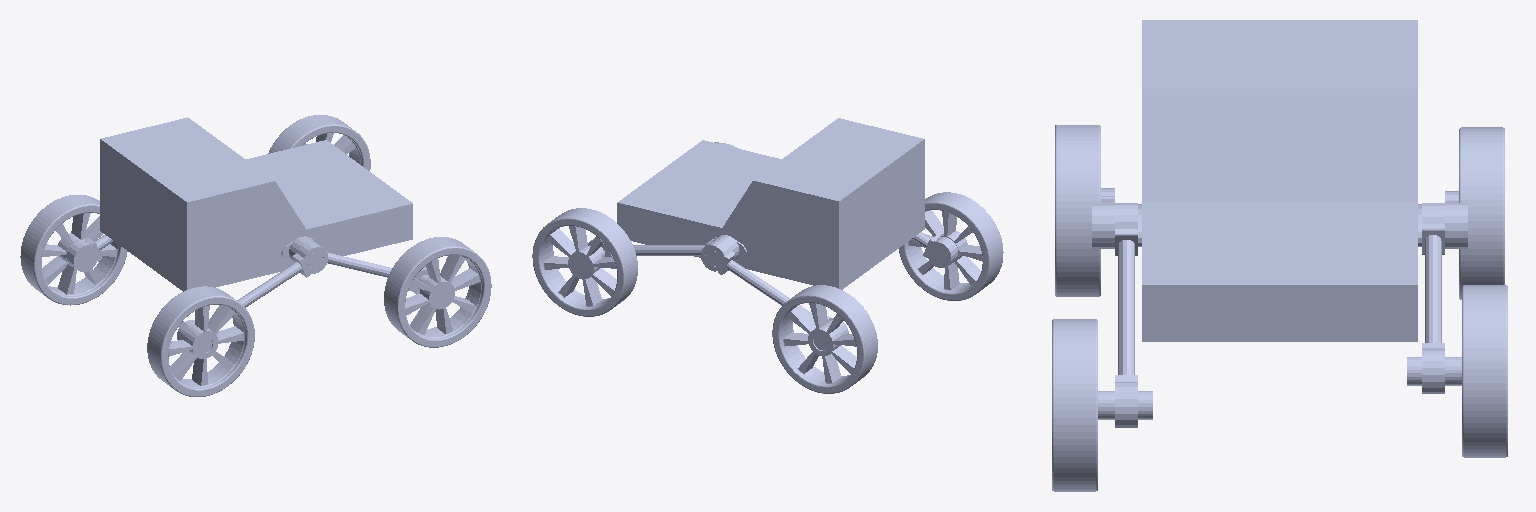
URDF robot description (srr):
<?xml version="1.0" encoding="utf-8"?>
<!-- This URDF was automatically created by SolidWorks to URDF Exporter! Originally created by [author] ([email redacted]) 
     Commit Version: 1.5.1-0-g916b5db  Build Version: 1.5.7152.31018
     For more information, please see http://wiki.ros.org/sw_urdf_exporter -->
<robot name="srr">

  <!-- ROBOT DUMMIES -->

  <link name="dummy_link"/>
  <joint name="DummyJoint" type="fixed">
    <origin rpy="0 0 0" xyz="0 0 0"/>
    <parent link="dummy_link"/>
    <child link="base_link"/>
  </joint>

  <!-- ROBOT LINKS -->

  <link name="base_link">
    <inertial>
      <origin
        xyz="-0.0511616375707918 0.0704353712452544 -1.04088218196721E-08"
        rpy="0 0 0" />
      <mass value="16.6773118924852" />
      <inertia
        ixx="0.172132504372258"
        ixy="0.0449197071976965"
        ixz="2.75949391271907E-09"
        iyy="0.38731436241578"
        iyz="7.04934018548932E-08"
        izz="0.296570770449391" />
    </inertial>
    <visual>
      <origin
        xyz="0 0 0"
        rpy="0 0 0" />
      <geometry>
        <mesh filename="package://srr_sim/meshes/base_link.STL" />
      </geometry>
      <material name="">
        <color rgba="0.792156862745098 0.819607843137255 0.933333333333333 1" />
      </material>
    </visual>
    <collision>
      <origin
        xyz="0 0 0"
        rpy="0 0 0" />
      <geometry>
        <mesh filename="package://srr_sim/meshes/base_link.STL" />
      </geometry>
    </collision>
  </link>
  <link name="Front_Left">
    <inertial>
      <origin
        xyz="0.1296 -0.00016693 -0.0127"
        rpy="0 0 0" />
      <mass value="0.13037" />
      <inertia
        ixx="2.2243E-05"
        ixy="7.9264E-09"
        ixz="-1.9209E-21"
        iyy="0.0013778"
        iyz="1.8506E-22"
        izz="0.0013896" />
    </inertial>
    <visual>
      <origin
        xyz="0 0 0"
        rpy="0 0 0" />
      <geometry>
        <mesh filename="package://srr_sim/meshes/Front_Left.STL" />
      </geometry>
      <material name="">
        <color rgba="0.79216 0.81961 0.93333 1" />
      </material>
    </visual>
    <collision>
      <origin
        xyz="0 0 0"
        rpy="0 0 0" />
      <geometry>
        <mesh filename="package://srr_sim/meshes/Front_Left.STL" />
      </geometry>
    </collision>
  </link>
  <link name="Front_Left_Wheel">
    <inertial>
      <origin
        xyz="2.7756E-17 5.5511E-17 -0.040393"
        rpy="0 0 0" />
      <mass value="0.68474" />
      <inertia
        ixx="0.0021142"
        ixy="-5.421E-20"
        ixz="-2.2294E-19"
        iyy="0.0021142"
        iyz="7.4853E-20"
        izz="0.0039865" />
    </inertial>
    <visual>
      <origin
        xyz="0 0 0"
        rpy="0 0 0" />
      <geometry>
        <mesh filename="package://srr_sim/meshes/Front_Left_Wheel.STL" />
      </geometry>
      <material name="">
        <color rgba="0.79216 0.81961 0.93333 1" />
      </material>
    </visual>
    <collision>
      <origin
        xyz="0 0 0"
        rpy="0 0 0" />
      <geometry>
        <mesh filename="package://srr_sim/meshes/Front_Left_Wheel.STL" />
      </geometry>
    </collision>
  </link>
  <link name="Front_Right">
    <inertial>
      <origin
        xyz="0.1296 -0.00016693 0.0127"
        rpy="0 0 0" />
      <mass value="0.13037" />
      <inertia
        ixx="2.2243E-05"
        ixy="7.9264E-09"
        ixz="-3.4772E-22"
        iyy="0.0013778"
        iyz="7.5437E-22"
        izz="0.0013896" />
    </inertial>
    <visual>
      <origin
        xyz="0 0 0"
        rpy="0 0 0" />
      <geometry>
        <mesh filename="package://srr_sim/meshes/Front_Right.STL" />
      </geometry>
      <material name="">
        <color rgba="0.79216 0.81961 0.93333 1" />
      </material>
    </visual>
    <collision>
      <origin
        xyz="0 0 0"
        rpy="0 0 0" />
      <geometry>
        <mesh filename="package://srr_sim/meshes/Front_Right.STL" />
      </geometry>
    </collision>
  </link>
  <link name="Front_Right_Wheel">
    <inertial>
      <origin
        xyz="-2.77555756156289E-17 0 0.0403928887604011"
        rpy="0 0 0" />
      <mass value="0.684735063470279" />
      <inertia
        ixx="0.00211423848377032"
        ixy="-2.71050543121376E-20"
        ixz="1.21439126579021E-20"
        iyy="0.00211423848377032"
        iyz="-5.65063558005809E-20"
        izz="0.0039865323273977" />
    </inertial>
    <visual>
      <origin
        xyz="0 0 0"
        rpy="0 0 0" />
      <geometry>
        <mesh filename="package://srr_sim/meshes/Front_Right_Wheel.STL" />
      </geometry>
      <material name="">
        <color rgba="0.792156862745098 0.819607843137255 0.933333333333333 1" />
      </material>
    </visual>
    <collision>
      <origin
        xyz="0 0 0"
        rpy="0 0 0" />
      <geometry>
        <mesh filename="package://srr_sim/meshes/Front_Right_Wheel.STL" />
      </geometry>
    </collision>
  </link>
  <link name="Rear_Left">
    <inertial>
      <origin
        xyz="-0.12948 -0.00016693 -0.0127"
        rpy="0 0 0" />
      <mass value="0.13037" />
      <inertia
        ixx="2.2243E-05"
        ixy="7.9264E-09"
        ixz="-1.3157E-20"
        iyy="0.0013778"
        iyz="3.0594E-21"
        izz="0.0013896" />
    </inertial>
    <visual>
      <origin
        xyz="0 0 0"
        rpy="0 0 0" />
      <geometry>
        <mesh filename="package://srr_sim/meshes/Rear_Left.STL" />
      </geometry>
      <material name="">
        <color rgba="0.79216 0.81961 0.93333 1" />
      </material>
    </visual>
    <collision>
      <origin
        xyz="0 0 0"
        rpy="0 0 0" />
      <geometry>
        <mesh filename="package://srr_sim/meshes/Rear_Left.STL" />
      </geometry>
    </collision>
  </link>
  <link name="Rear_Left_Wheel">
    <inertial>
      <origin
        xyz="2.77555756156289E-17 -1.38777878078145E-17 -0.0403928887604008"
        rpy="0 0 0" />
      <mass value="0.684735063470277" />
      <inertia
        ixx="0.00211423848377032"
        ixy="-6.50521303491303E-19"
        ixz="3.54350337780674E-20"
        iyy="0.00211423848377032"
        iyz="7.76577613395464E-20"
        izz="0.00398653232739769" />
    </inertial>
    <visual>
      <origin
        xyz="0 0 0"
        rpy="0 0 0" />
      <geometry>
        <mesh filename="package://srr_sim/meshes/Rear_Left_Wheel.STL" />
      </geometry>
      <material name="">
        <color rgba="0.792156862745098 0.819607843137255 0.933333333333333 1" />
      </material>
    </visual>
    <collision>
      <origin
        xyz="0 0 0"
        rpy="0 0 0" />
      <geometry>
        <mesh filename="package://srr_sim/meshes/Rear_Left_Wheel.STL" />
      </geometry>
    </collision>
  </link>
  <link name="Rear_Right">
    <inertial>
      <origin
        xyz="-0.129484880168611 -0.000166934629764387 0.0127"
        rpy="0 0 0" />
      <mass value="0.13036735305509" />
      <inertia
        ixx="2.22434328599032E-05"
        ixy="7.92643638985341E-09"
        ixz="1.10564735972895E-21"
        iyy="0.00137776669825477"
        iyz="-3.98778970545126E-21"
        izz="0.00138959248730674" />
    </inertial>
    <visual>
      <origin
        xyz="0 0 0"
        rpy="0 0 0" />
      <geometry>
        <mesh filename="package://srr_sim/meshes/Rear_Right.STL" />
      </geometry>
      <material name="">
        <color rgba="0.792156862745098 0.819607843137255 0.933333333333333 1" />
      </material>
    </visual>
    <collision>
      <origin
        xyz="0 0 0"
        rpy="0 0 0" />
      <geometry>
        <mesh filename="package://srr_sim/meshes/Rear_Right.STL" />
      </geometry>
    </collision>
  </link>
  <link name="Rear_Right_Wheel">
    <inertial>
      <origin
        xyz="2.7756E-17 0 0.040393"
        rpy="0 0 0" />
      <mass value="0.68474" />
      <inertia
        ixx="0.0021142"
        ixy="-2.9477E-19"
        ixz="1.5023E-20"
        iyy="0.0021142"
        iyz="-5.8887E-20"
        izz="0.0039865" />
    </inertial>
    <visual>
      <origin
        xyz="0 0 0"
        rpy="0 0 0" />
      <geometry>
        <mesh filename="package://srr_sim/meshes/Rear_Right_Wheel.STL" />
      </geometry>
      <material name="">
        <color rgba="0.79216 0.81961 0.93333 1" />
      </material>
    </visual>
    <collision>
      <origin
        xyz="0 0 0"
        rpy="0 0 0" />
      <geometry>
        <mesh filename="package://srr_sim/meshes/Rear_Right_Wheel.STL" />
      </geometry>
    </collision>
  </link>

  <!-- ROBOT JOINTS -->

  <joint name="FL_Joint" type="revolute">
    <origin
      xyz="0 0.15621 0.034606"
      rpy="1.5708 0.23089 0" />
    <parent link="base_link" />
    <child link="Front_Left" />
    <axis xyz="0 0 1" />
    <limit
      lower="0"
      upper="1.5707963"
      effort="12.5"
      velocity="0" />
  </joint>
  <joint name="FL_Wheel_Joint" type="continuous">
    <origin
      xyz="0.25908 0 0"
      rpy="0 0 -0.79784" />
    <parent link="Front_Left" />
    <child link="Front_Left_Wheel" />
    <axis xyz="0 0 1" />
    <limit
      effort="12.5"
      velocity="0" />
  </joint>
  <joint name="FR_Joint" type="revolute">
    <origin
      xyz="0 -0.15621 0.034606"
      rpy="1.5708 0.43239 0" />
    <parent link="base_link" />
    <child link="Front_Right" />
    <axis xyz="0 0 1" />
    <limit
      lower="0"
      upper="1.5707963"
      effort="12.5"
      velocity="0" />
  </joint>
  <joint name="FR_Wheel_Joint" type="continuous">
    <origin
      xyz="0.25908 0 0"
      rpy="0 0 -2.5083" />
    <parent link="Front_Right" />
    <child link="Front_Right_Wheel" />
    <axis xyz="0 0 1" />
    <limit
      effort="12.5"
      velocity="0" />
  </joint>
  <joint name="RL_Wheel_Joint" type="continuous">
    <origin
      xyz="-0.25908 0 0"
      rpy="0 0 -0.610274581412076" />
    <parent link="Rear_Left" />
    <child link="Rear_Left_Wheel" />
    <axis xyz="0 0 1" />
    <limit
      effort="12.5"
      velocity="0" />
  </joint>
  <joint name="RL_Joint" type="revolute">
    <origin
      xyz="0 0.18161 0.034606"
      rpy="1.5708 -0.38556 0" />
    <parent link="base_link" />
    <child link="Rear_Left" />
    <axis xyz="0 0 1" />
    <limit
      lower="0"
      upper="1.5707963"
      effort="12.5"
      velocity="0" />
  </joint>
  <joint name="RR_Joint" type="revolute">
    <origin
      xyz="0 -0.18161 0.034606"
      rpy="1.5708 -0.37306 0" />
    <parent link="base_link" />
    <child link="Rear_Right" />
    <axis xyz="0 0 1" />
    <limit
      lower="0"
      upper="1.5707963"
      effort="12.5"
      velocity="0" />
  </joint>
  <joint name="RR_Wheel_Joint" type="continuous">
    <origin
      xyz="-0.25908 0 0"
      rpy="0 0 -0.397587942822765" />
    <parent link="Rear_Right" />
    <child link="Rear_Right_Wheel" />
    <axis xyz="0 0 1" />
    <limit
      effort="12.5"
      velocity="0" />
  </joint>

</robot>

--- Facts derived from the render (not from the file) ---
3 views of the same robot in one strip: view 1: azimuth 30°, elevation 25°; view 2: azimuth 150°, elevation 25°; view 3: azimuth 270°, elevation 25° (orthographic).
Model srr with 10 links and 9 joints (4 revolute, 4 continuous, 1 fixed), rooted at dummy_link, posed all joints at 0.
Links seen in each view (by area): view 1: base_link, Front_Right_Wheel, Rear_Right_Wheel, Rear_Left_Wheel, Front_Left_Wheel, Rear_Right, Front_Right, Rear_Left; view 2: base_link, Front_Left_Wheel, Rear_Left_Wheel, Rear_Right_Wheel, Rear_Left, Front_Left, Rear_Right; view 3: base_link, Front_Left_Wheel, Front_Right_Wheel, Rear_Right_Wheel, Rear_Left_Wheel, Front_Right, Front_Left, Rear_Right, Rear_Left.
Boxes of the visible links, bbox=[...] form: base_link: bbox=[100, 117, 412, 291]; Front_Right_Wheel: bbox=[384, 237, 491, 347]; Rear_Right_Wheel: bbox=[147, 286, 254, 396]; Rear_Left_Wheel: bbox=[20, 195, 127, 305]; Front_Left_Wheel: bbox=[268, 115, 370, 170]; Rear_Right: bbox=[177, 242, 327, 340]; Front_Right: bbox=[289, 236, 427, 294]; Rear_Left: bbox=[66, 235, 113, 271]; base_link: bbox=[617, 118, 924, 289]; Front_Left_Wheel: bbox=[532, 208, 637, 316]; Rear_Left_Wheel: bbox=[772, 285, 877, 393]; Rear_Right_Wheel: bbox=[899, 192, 1003, 300]; Rear_Left: bbox=[701, 240, 848, 334]; Front_Left: bbox=[588, 235, 739, 260]; Rear_Right: bbox=[912, 232, 957, 267]; base_link: bbox=[1138, 20, 1421, 341]; Front_Left_Wheel: bbox=[1407, 285, 1507, 457]; Front_Right_Wheel: bbox=[1052, 319, 1152, 491]; Rear_Right_Wheel: bbox=[1055, 125, 1100, 296]; Rear_Left_Wheel: bbox=[1459, 127, 1504, 299]; Front_Right: bbox=[1115, 203, 1137, 427]; Front_Left: bbox=[1422, 203, 1444, 393]; Rear_Right: bbox=[1092, 188, 1114, 248]; Rear_Left: bbox=[1445, 191, 1467, 248].
Bounding box of the posed robot: 0.6839 × 0.5029 × 0.3469 m (x, y, z).
9 mesh visuals loaded from 9 distinct referenced files (9 binary STL).
